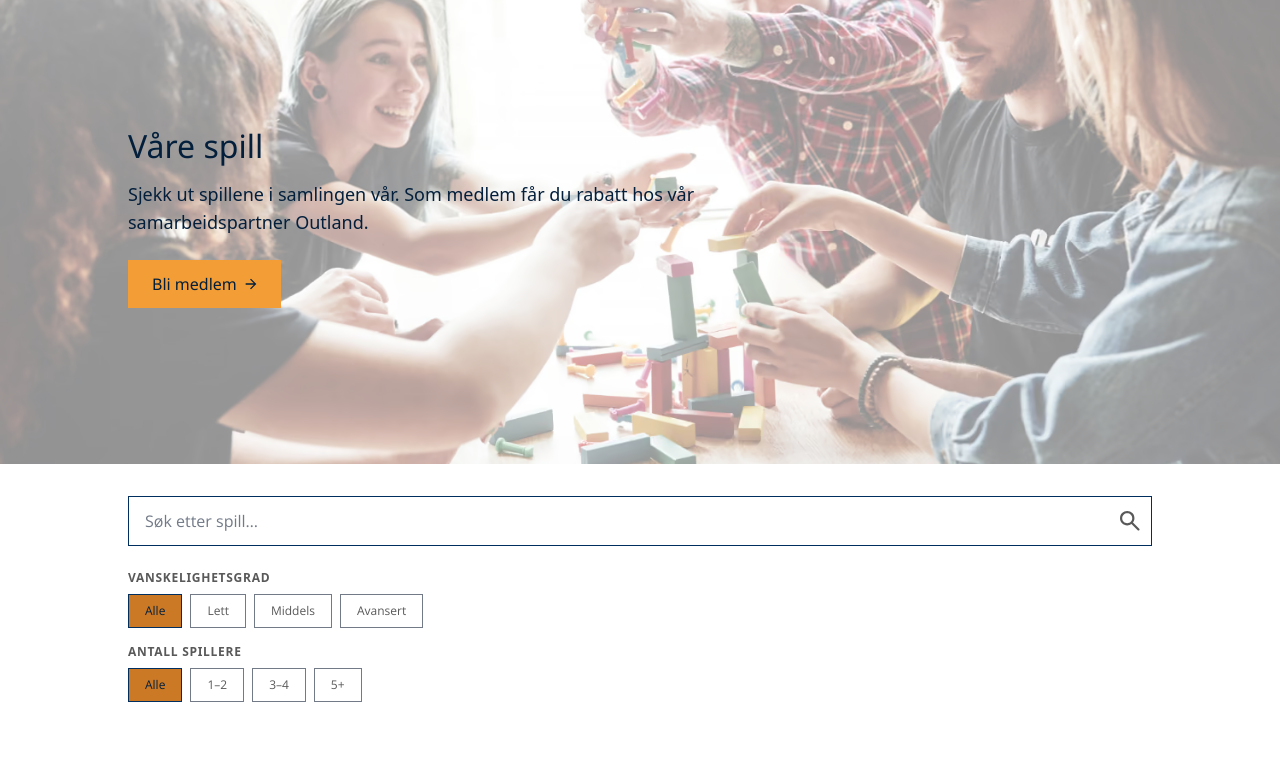
it: OurGamesSection › filters by player count on overlap, not containment
The image size is (1280, 768).
"5+" (lo 5, hi 99) excludes Tie Break's 2–4 range entirely.
Click the button "5+" at (338, 685), box 314,668 -> 362,702
(page scrolled)
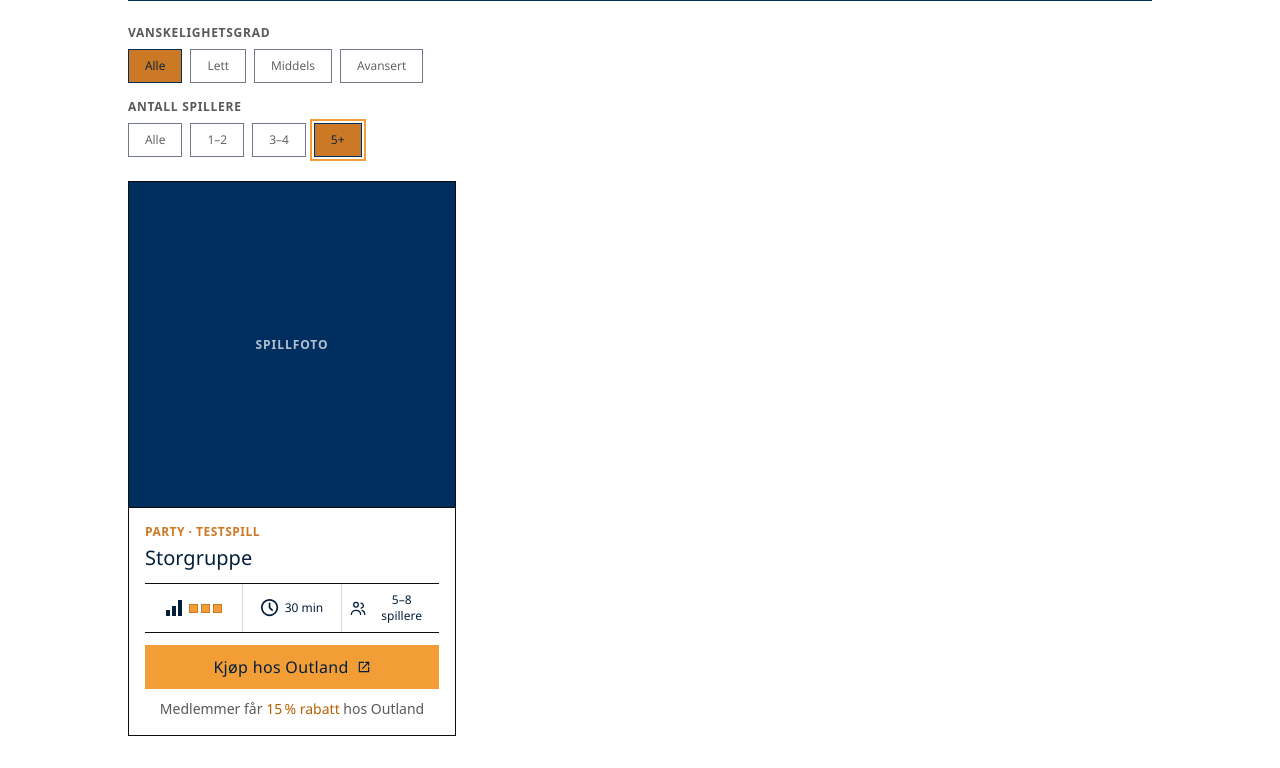
expect the heading "Storgruppe" is shown: met, box 145,544 -> 252,571
